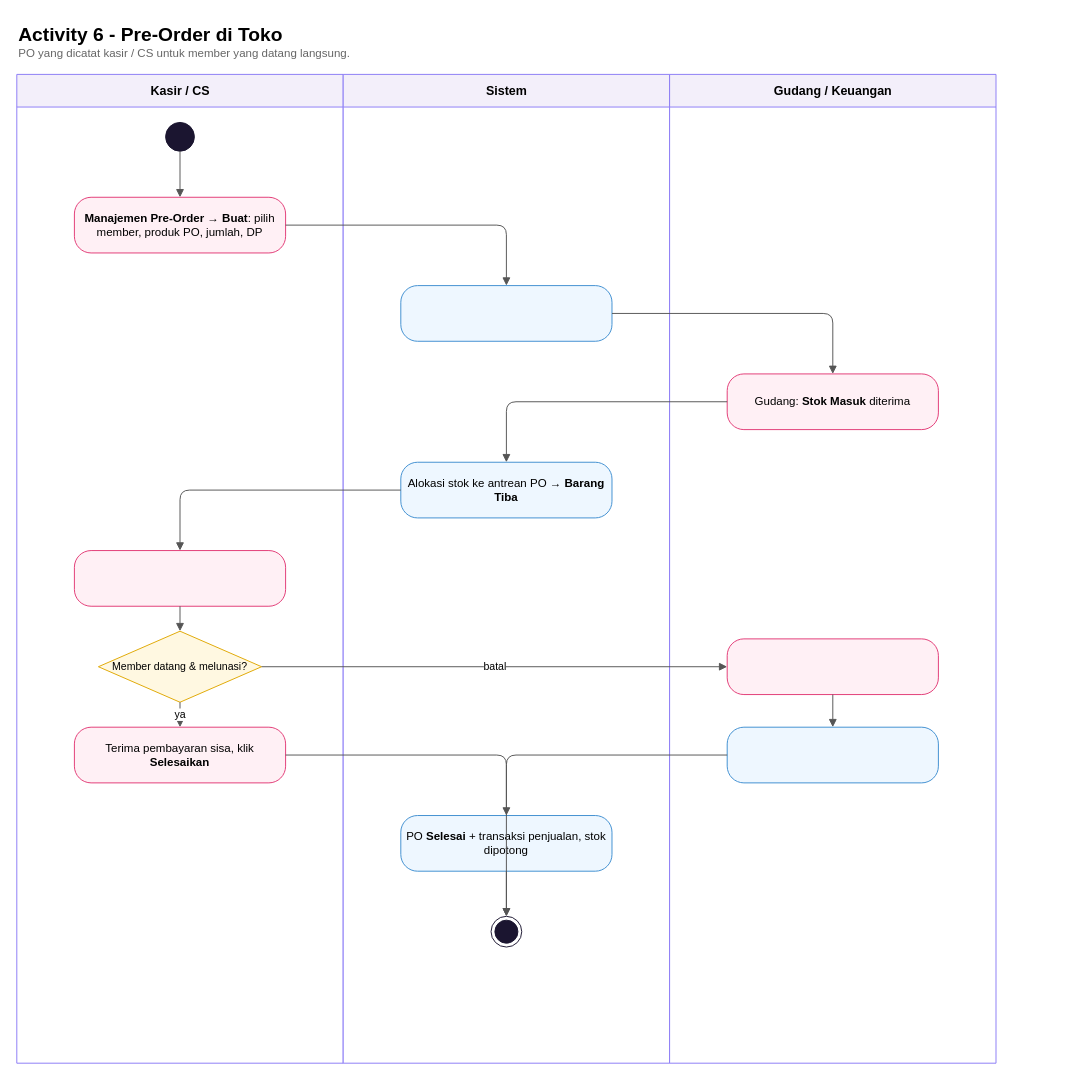
Some shapes in this 1090 by 1080 pixel diagram are drawn without their labels. The centre of each missing label's shape, as x and y in pixels:
"Keuangan / Admin: Batalkan PO" goes at pixel 832 666.
"Lihat daftar PO siap diambil (Home), hubungi member" goes at pixel 179 578.
"PO Menunggu Barang + catat pembayaran DP, cetak bukti" goes at pixel 506 313.
"Tagihan online dibatalkan, stok dialihkan ke PO berikutnya" goes at pixel 832 754.
